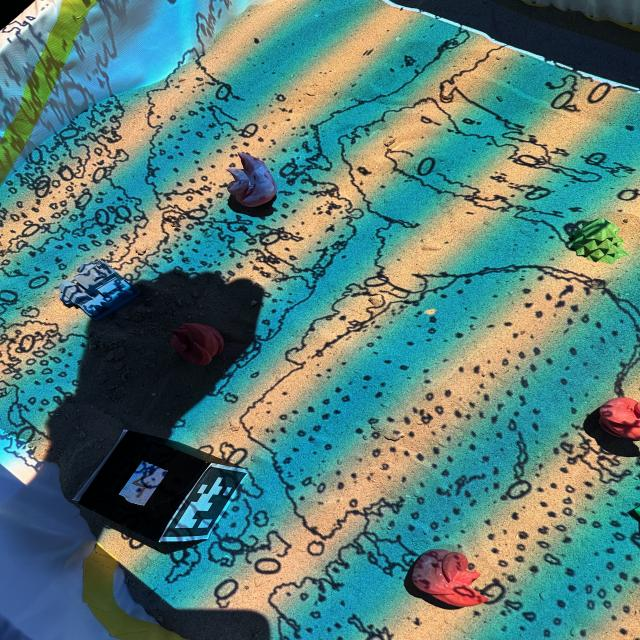fire: (406, 547, 493, 611), (225, 147, 277, 213), (162, 322, 223, 368), (591, 398, 640, 444)
house: (59, 262, 136, 317)
tree: (570, 217, 626, 264)
